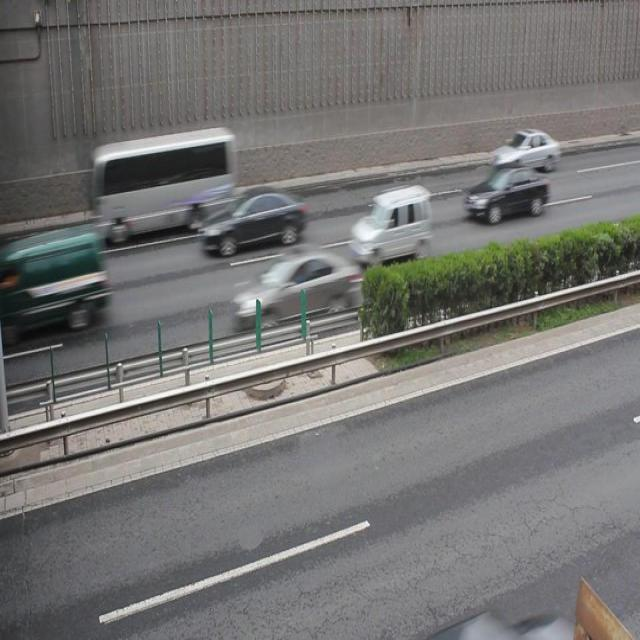car: (235, 255, 366, 323), (205, 190, 304, 251), (464, 165, 550, 220), (434, 609, 569, 640), (495, 127, 559, 174)
truck: (1, 223, 108, 330), (352, 184, 431, 268)
van: (93, 130, 238, 244)
